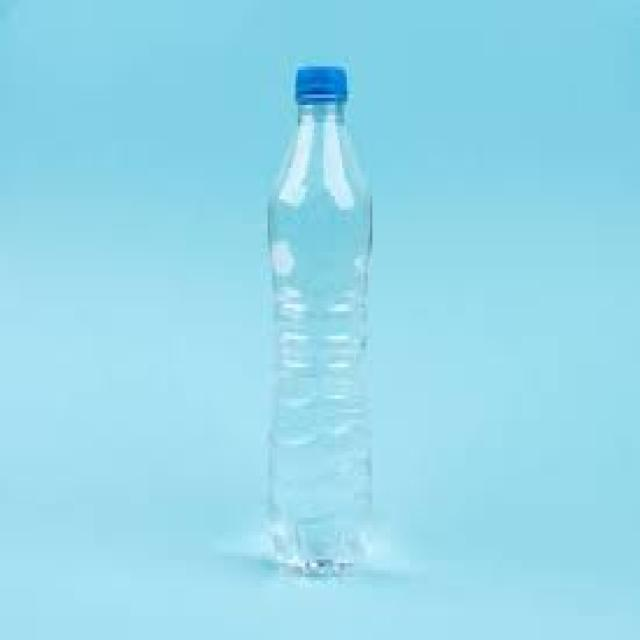plastic cup: (264, 66, 371, 570)
